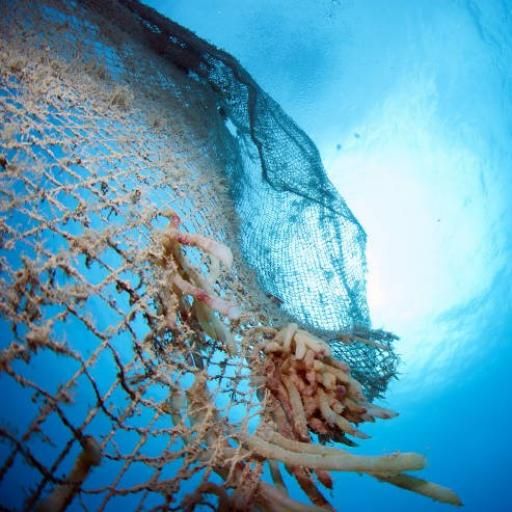net: (0, 0, 427, 512)
